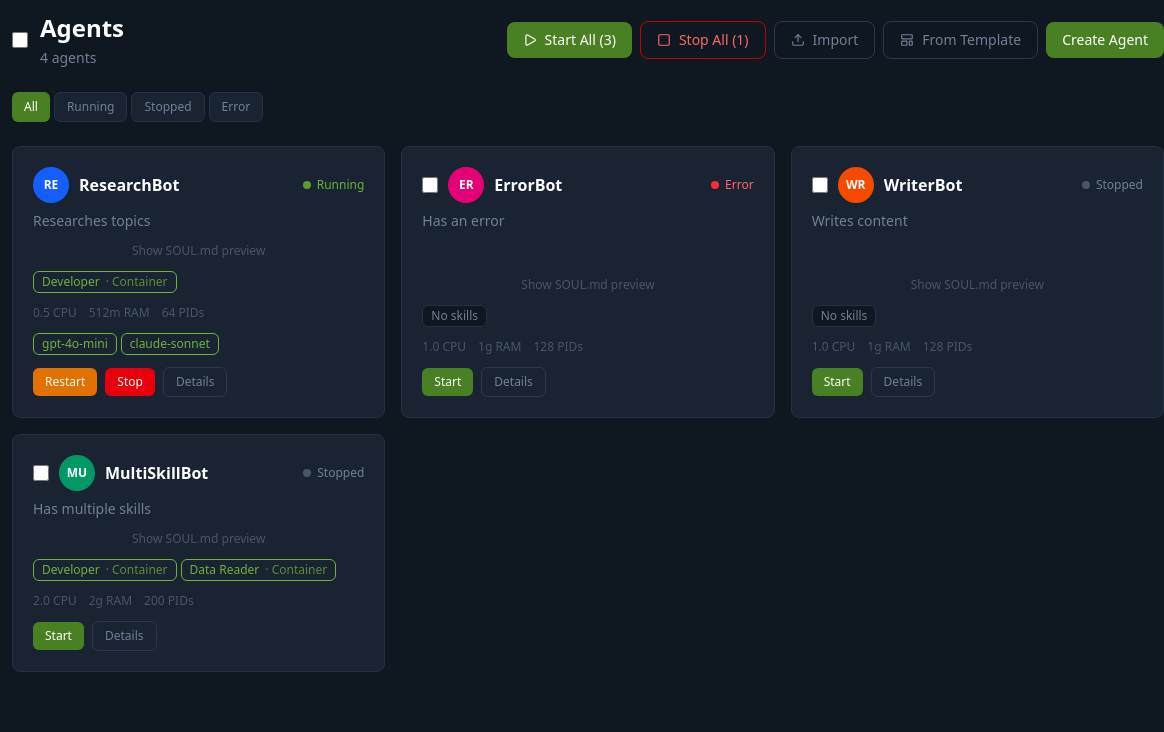
AgentsClient › status filter shows only matching agents
The image size is (1164, 732).
Expected: the link "ResearchBot" is shown, [79,173,179,197]
// Click "Running" filter
Click the button "Running" at (91, 107), box [54,92,128,122]
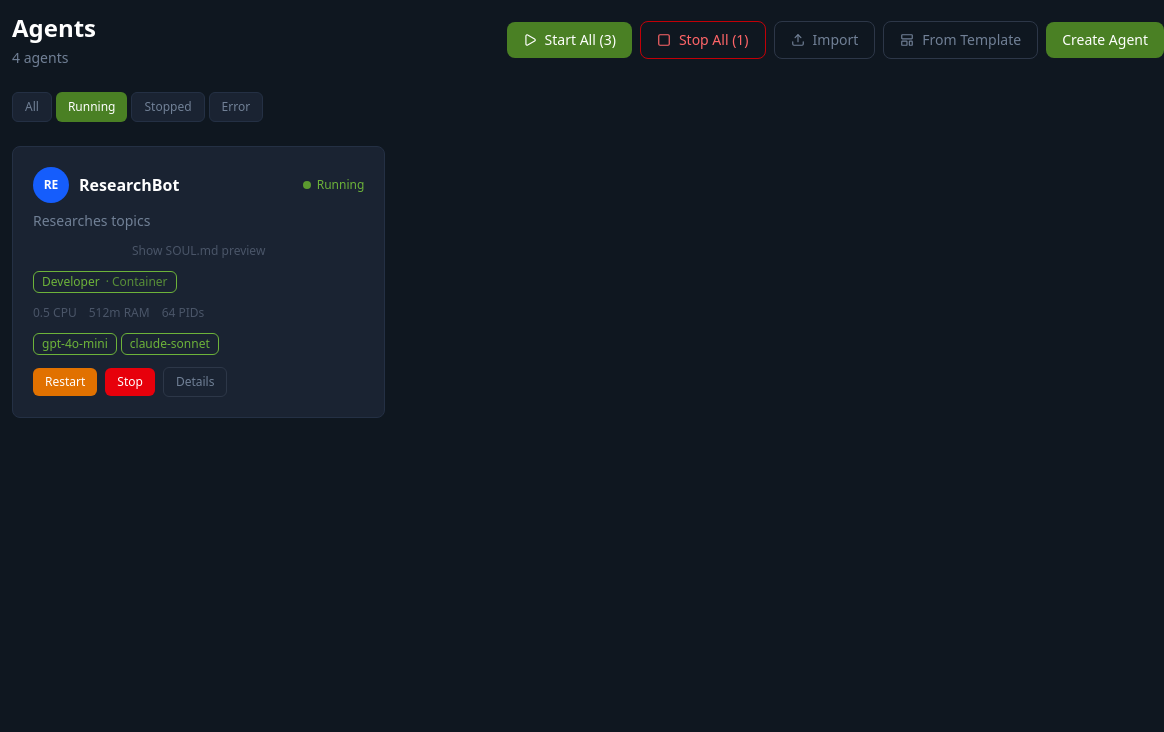
Expected: the link "ResearchBot" is shown, [79,173,179,197]
Expected: the link "WriterBot" is gone
Expected: the link "ErrorBot" is gone
